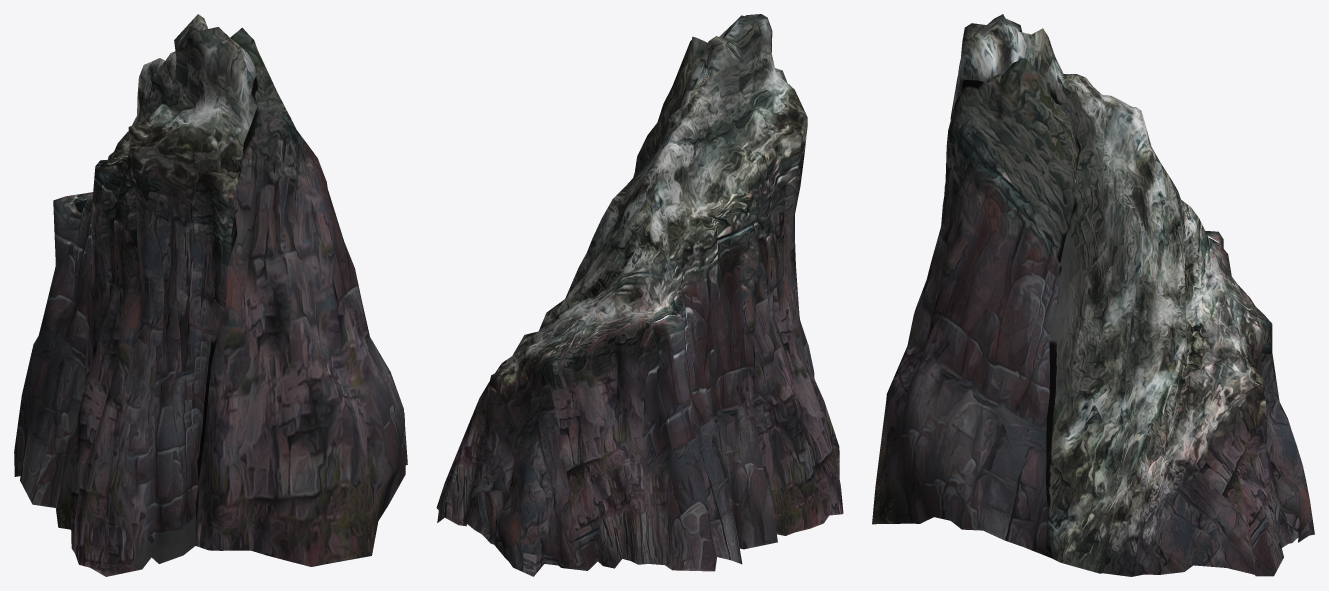
Rendered from Maincity_Mountain4.FBX.
The picture shows the model from 3 angles, left to right: view 1: azimuth 30°, elevation 25°; view 2: azimuth 150°, elevation 25°; view 3: azimuth 270°, elevation 25°; orthographic projection. The views are drawn at different scales.
Parts seen in each view (by area): view 1: default009; view 2: default009; view 3: default009.
Part boxes in pixels (x1,y1,x2,y2): default009: (14,14,407,576); default009: (436,14,843,576); default009: (872,14,1314,576).
Size of the model in its own units: 33725 by 49826 by 40716.
